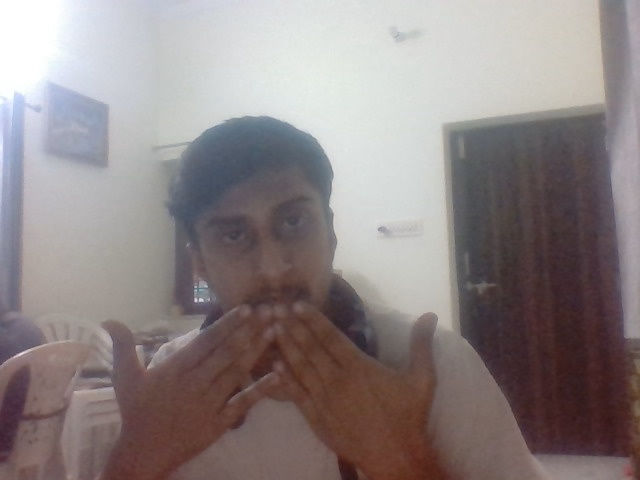ThankYou: (100, 301, 439, 449)
